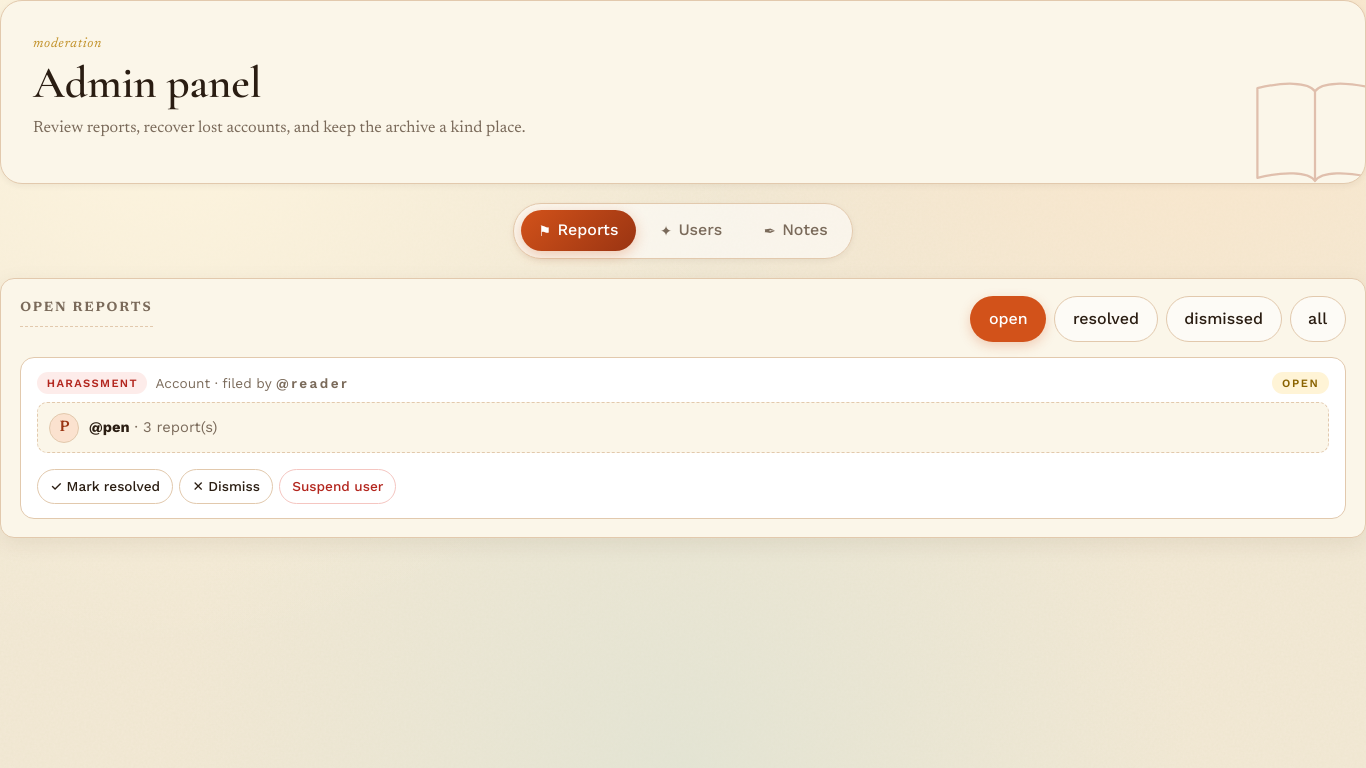
Test case: AdminDashboard › suspends the reported account from a user report, sending an explicit flag
The image size is (1366, 768).
Expected: the text "harassment" is shown, [37,372,148,394]
Expected: the text "· 3 report(s)" is shown, [135,418,217,436]
Click the button "Suspend user": (338, 487) [279,470,396,504]
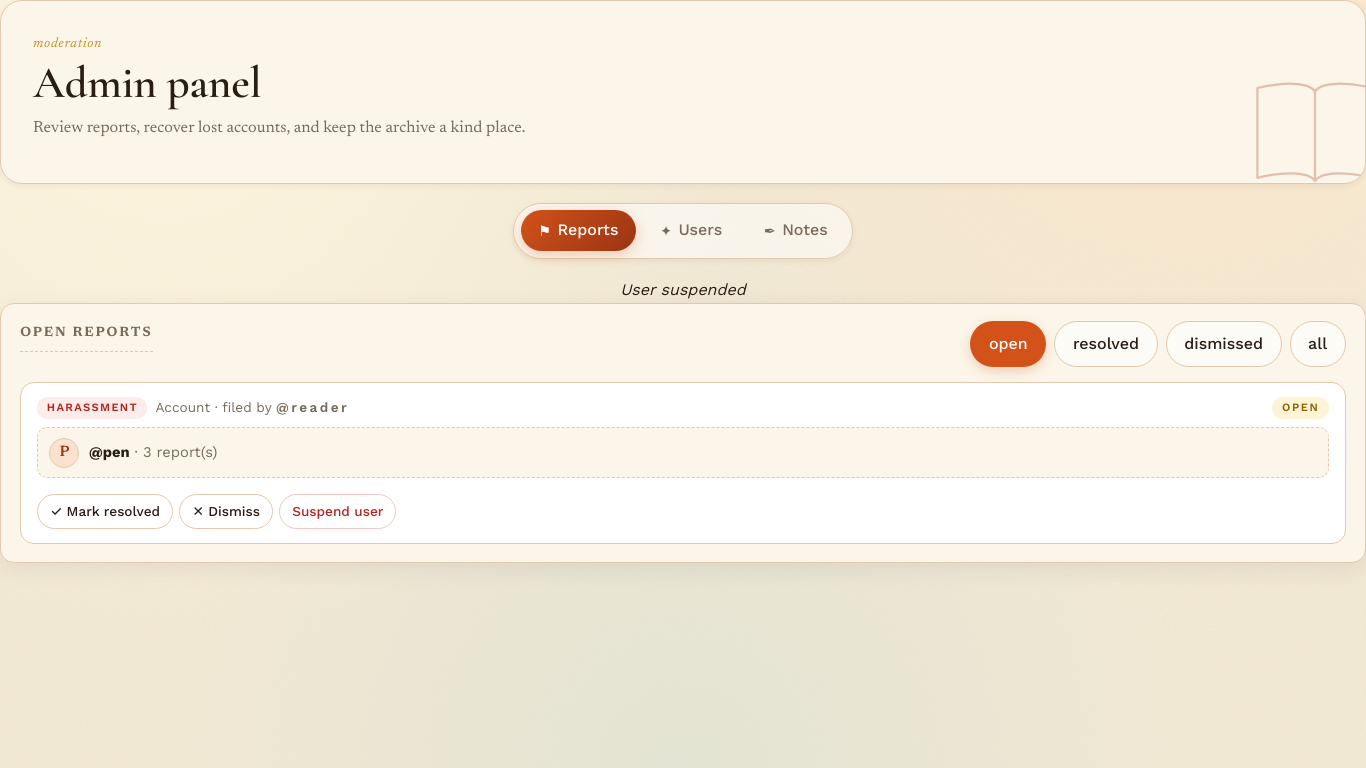
Now the text "User suspended" is shown, box [620,280,746,299]
